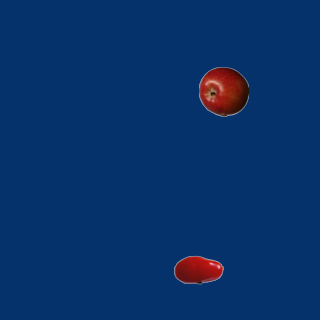Apple Braeburn: (198, 66, 248, 116)
Tomato 2: (173, 244, 223, 294)
